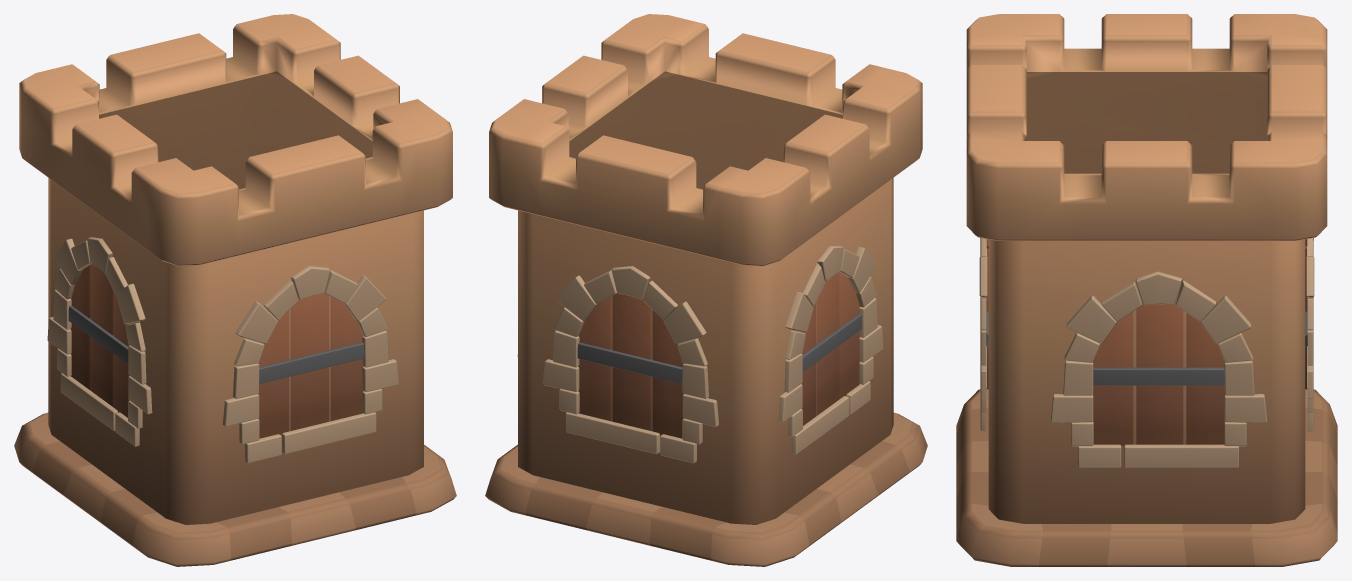
File: Checkpoint_3.fbx
The picture shows the model from 3 angles, left to right: view 1: azimuth 30°, elevation 25°; view 2: azimuth 150°, elevation 25°; view 3: azimuth 270°, elevation 25°; orthographic projection. The views are drawn at different scales.
Visible parts, largest first — view 1: Checkpoint_3; view 2: Checkpoint_3; view 3: Checkpoint_3.
Part boxes in pixels (x1,y1,x2,y2): Checkpoint_3: (14, 14, 456, 566); Checkpoint_3: (485, 14, 927, 566); Checkpoint_3: (956, 14, 1337, 566).
Bounding box in the file's own units: 281 × 325 × 281.
